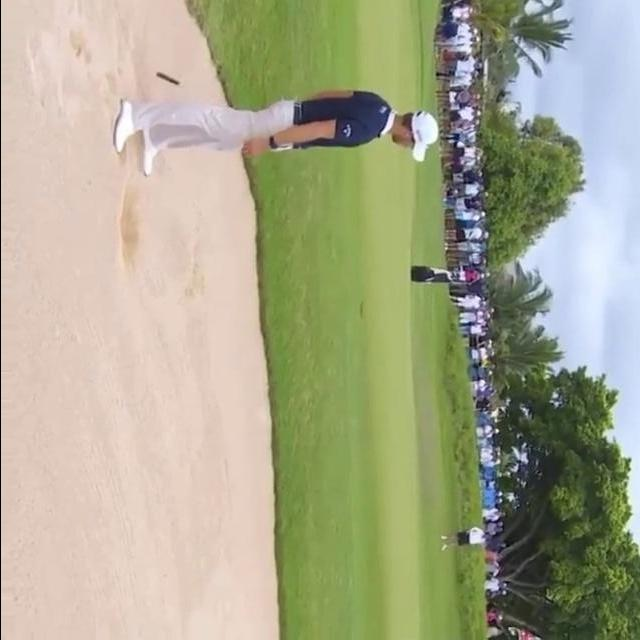ClubHandle: (156, 72, 228, 109)
